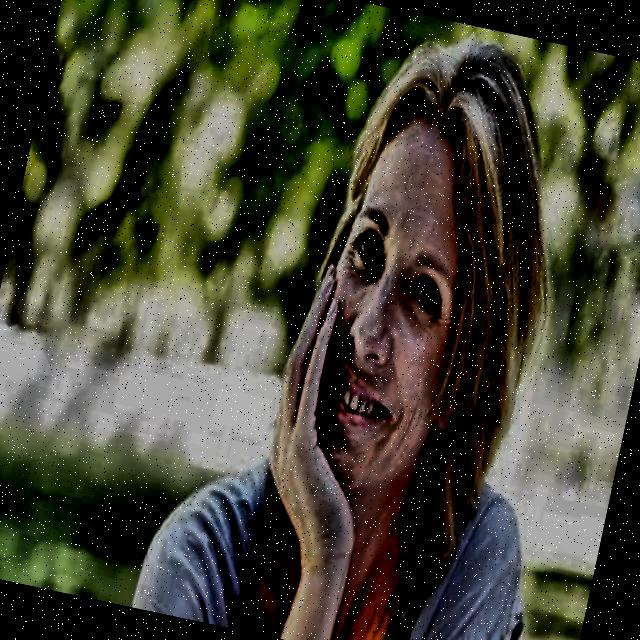happy: (262, 17, 579, 536)
